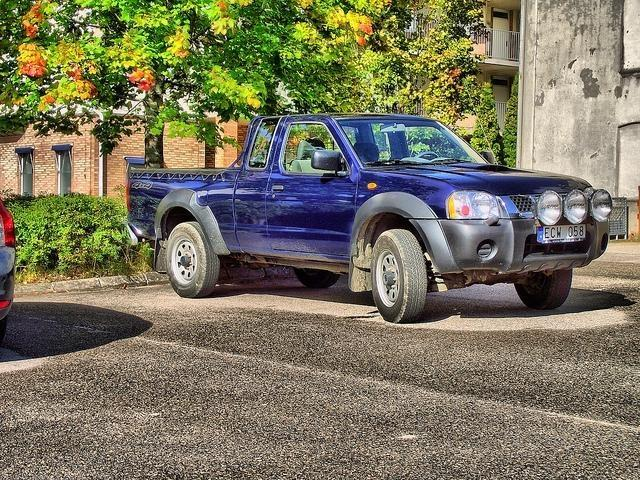car: (0, 198, 18, 340)
truck: (124, 114, 610, 318)
